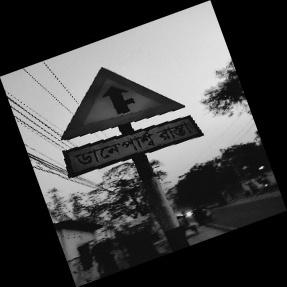Side-road-right: (61, 66, 197, 184)
